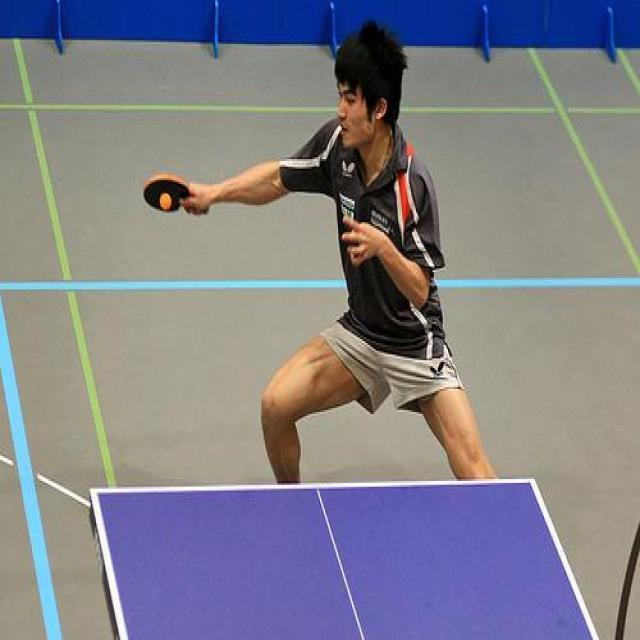ping-pong-ball: (159, 193, 172, 210)
